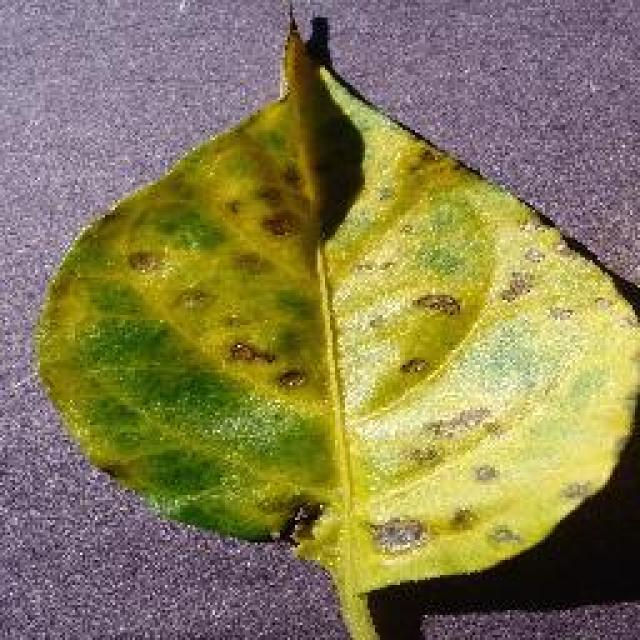Chilli_Bacterial_Spot: (28, 8, 638, 638), (30, 98, 340, 548), (330, 188, 498, 420), (420, 400, 495, 445), (273, 498, 325, 550), (368, 513, 428, 555), (222, 335, 278, 367), (410, 290, 462, 320), (255, 208, 300, 242), (495, 267, 535, 305), (122, 245, 162, 277), (483, 520, 525, 550), (272, 362, 310, 392), (442, 502, 480, 532), (395, 352, 430, 380), (468, 460, 502, 488), (520, 243, 548, 265)
